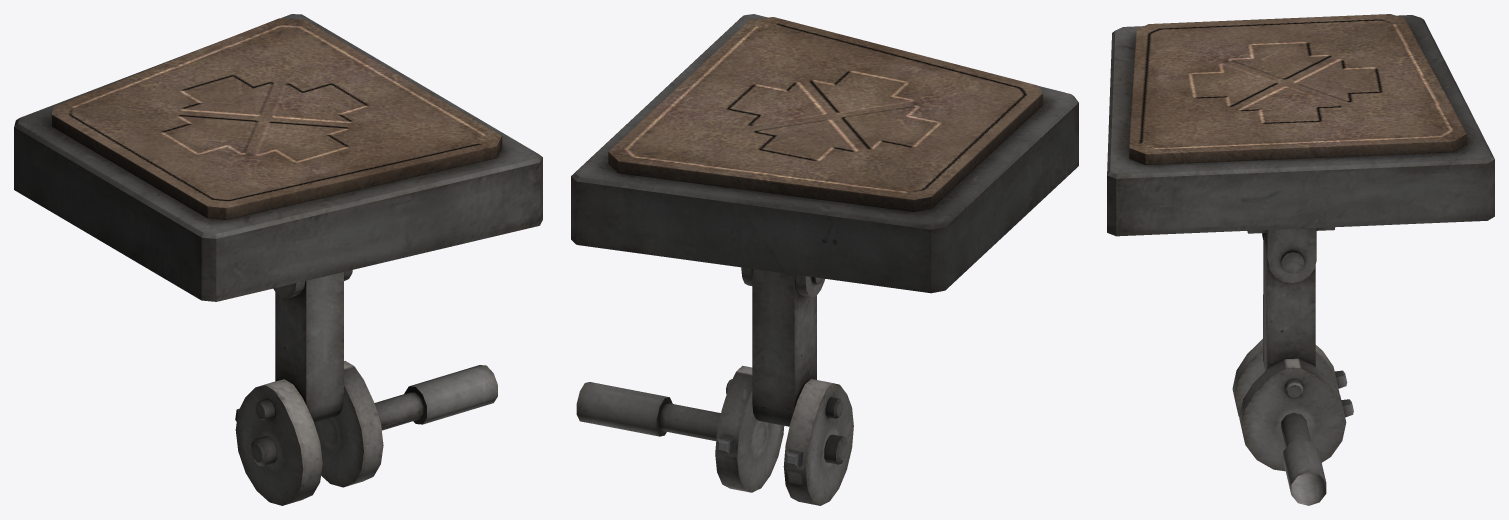
Rendered from SM_I_PressurePlate 1.FBX.
The picture shows the model from 3 angles, left to right: view 1: azimuth 30°, elevation 25°; view 2: azimuth 150°, elevation 25°; view 3: azimuth 270°, elevation 25°; orthographic projection. The views are drawn at different scales.
Visible parts, largest first — view 1: SM_CylinderWall007; view 2: SM_CylinderWall007; view 3: SM_CylinderWall007.
Boxes of the visible parts, box(x1,y1,x2,y2) form: SM_CylinderWall007: box(14, 14, 542, 505); SM_CylinderWall007: box(571, 14, 1078, 505); SM_CylinderWall007: box(1107, 14, 1494, 505).
Bounding box in the file's own units: 58.41 × 51.42 × 51.69.
